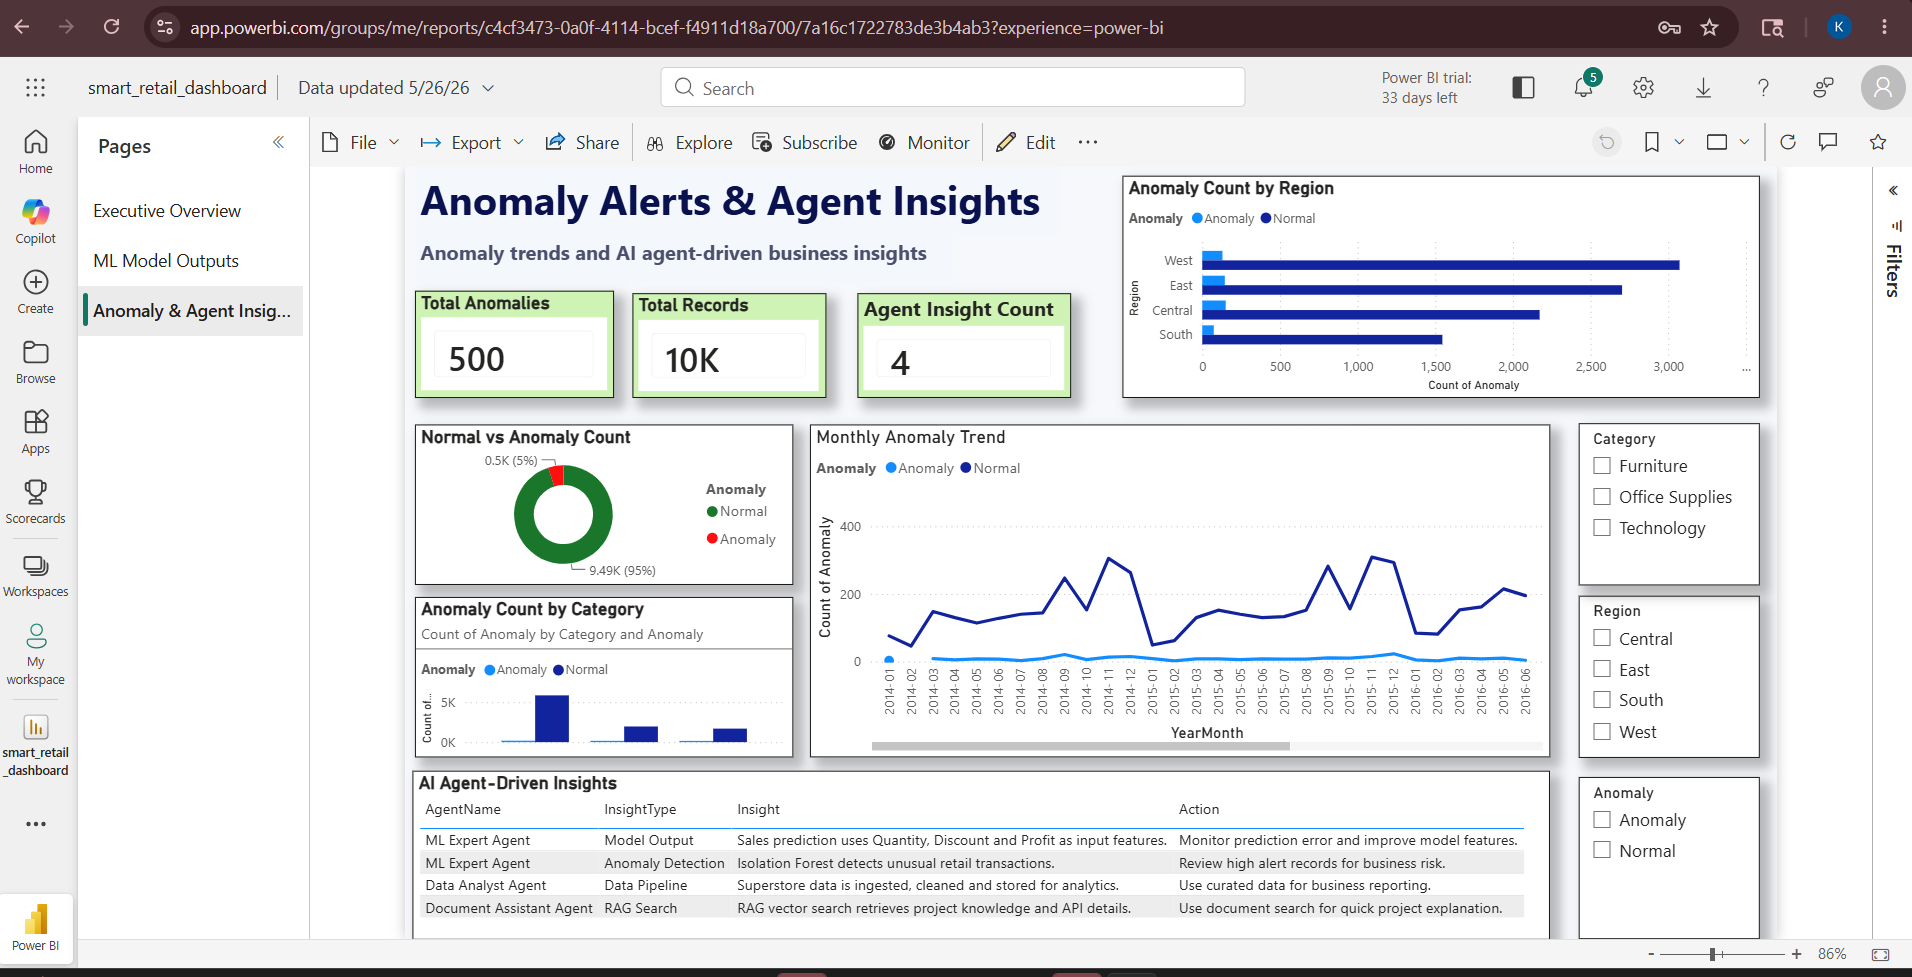

This screenshot's page, from the dashboard's own definition file:
{"tool":"powerbi","page":{"name":"Anomaly & Agent Insights","canvas":[1280,720],"ordinal":2},"visuals":[{"type":"textbox","box":[9.6,0,601,61.7],"z":0},{"type":"textbox","box":[9.7,61.5,501.9,45.8],"z":1000},{"type":"cardVisual","title":"Total Anomalies","fields":{"Data":["agent_insights.Total Anomaly Alerts"]},"box":[9.7,115.8,185.8,100.1],"z":2000},{"type":"cardVisual","title":"Total Records","fields":{"Data":["agent_insights.KPI Total Records"]},"box":[212.3,118.2,181,97.7],"z":3000},{"type":"donutChart","title":"Normal vs Anomaly Count","fields":{"Category":["anomaly_alerts.Anomaly"],"Y":["CountNonNull(anomaly_alerts.Anomaly)"]},"box":[9.6,240.1,352.7,149.6],"z":4000},{"type":"clusteredBarChart","title":"Anomaly Count by Region","fields":{"Category":["anomaly_alerts.Region"],"Y":["CountNonNull(anomaly_alerts.Anomaly)"],"Series":["anomaly_alerts.Anomaly"]},"box":[669.6,8.4,594.8,207.5],"z":5000},{"type":"clusteredColumnChart","title":"Anomaly Count by Category","fields":{"Category":["anomaly_alerts.Category"],"Y":["CountNonNull(anomaly_alerts.Anomaly)"],"Series":["anomaly_alerts.Anomaly"]},"box":[9.6,400.7,352.7,149.6],"z":6000},{"type":"lineChart","title":"Monthly Anomaly Trend","fields":{"Category":["anomaly_alerts.YearMonth.Variation.Date Hierarchy.Year"],"Y":["CountNonNull(anomaly_alerts.Anomaly)"],"Series":["anomaly_alerts.Anomaly"]},"box":[377.6,240.1,690.1,310.1],"z":7000},{"type":"tableEx","title":"AI Agent-Driven Insights","fields":{"Values":["agent_insights.AgentName","agent_insights.InsightType","agent_insights.Insight","agent_insights.Action"]},"box":[6.9,562.6,1060.7,157.8],"z":8000},{"type":"slicer","fields":{"Values":["anomaly_alerts.Anomaly"]},"box":[1095,569.5,168.8,150.9],"z":9000},{"type":"slicer","fields":{"Values":["anomaly_alerts.Region"]},"box":[1095,399.3,168.8,150.9],"z":10000},{"type":"slicer","fields":{"Values":["anomaly_alerts.Category"]},"box":[1095,238.8,168.8,150.9],"z":11000},{"type":"cardVisual","title":"Agent Insight Count","fields":{"Data":["agent_insights.Agent Insight Count"]},"box":[422.3,118.2,199.1,97.7],"z":12000}]}

Visuals, with their boxes on the page's 1280x720 design canvas (x1, y1, x2, y2). These are canvas units, not pixel positions in the 1912x977 screenshot, which may show the page scaled, cropped or inside an application window:
textbox: bbox(10, 0, 611, 62)
textbox: bbox(10, 62, 512, 107)
"Total Anomalies" cardVisual: bbox(10, 116, 196, 216)
"Total Records" cardVisual: bbox(212, 118, 393, 216)
"Normal vs Anomaly Count" donutChart: bbox(10, 240, 362, 390)
"Anomaly Count by Region" clusteredBarChart: bbox(670, 8, 1264, 216)
"Anomaly Count by Category" clusteredColumnChart: bbox(10, 401, 362, 550)
"Monthly Anomaly Trend" lineChart: bbox(378, 240, 1068, 550)
"AI Agent-Driven Insights" tableEx: bbox(7, 563, 1068, 720)
slicer - anomaly_alerts.Anomaly: bbox(1095, 570, 1264, 720)
slicer - anomaly_alerts.Region: bbox(1095, 399, 1264, 550)
slicer - anomaly_alerts.Category: bbox(1095, 239, 1264, 390)
"Agent Insight Count" cardVisual: bbox(422, 118, 621, 216)
